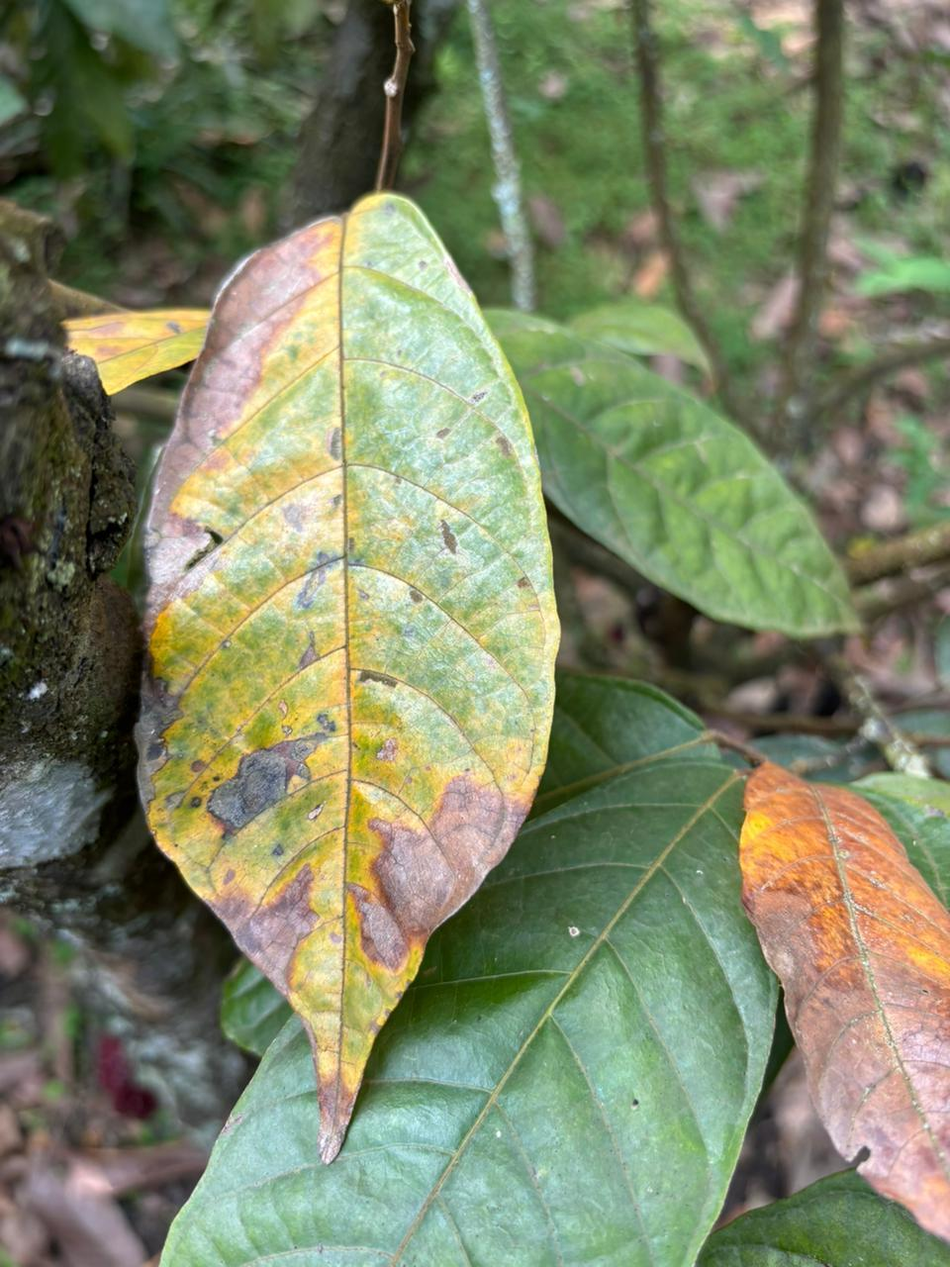deficienciia_fosforo: (139, 192, 558, 1163), (739, 764, 949, 1236)
